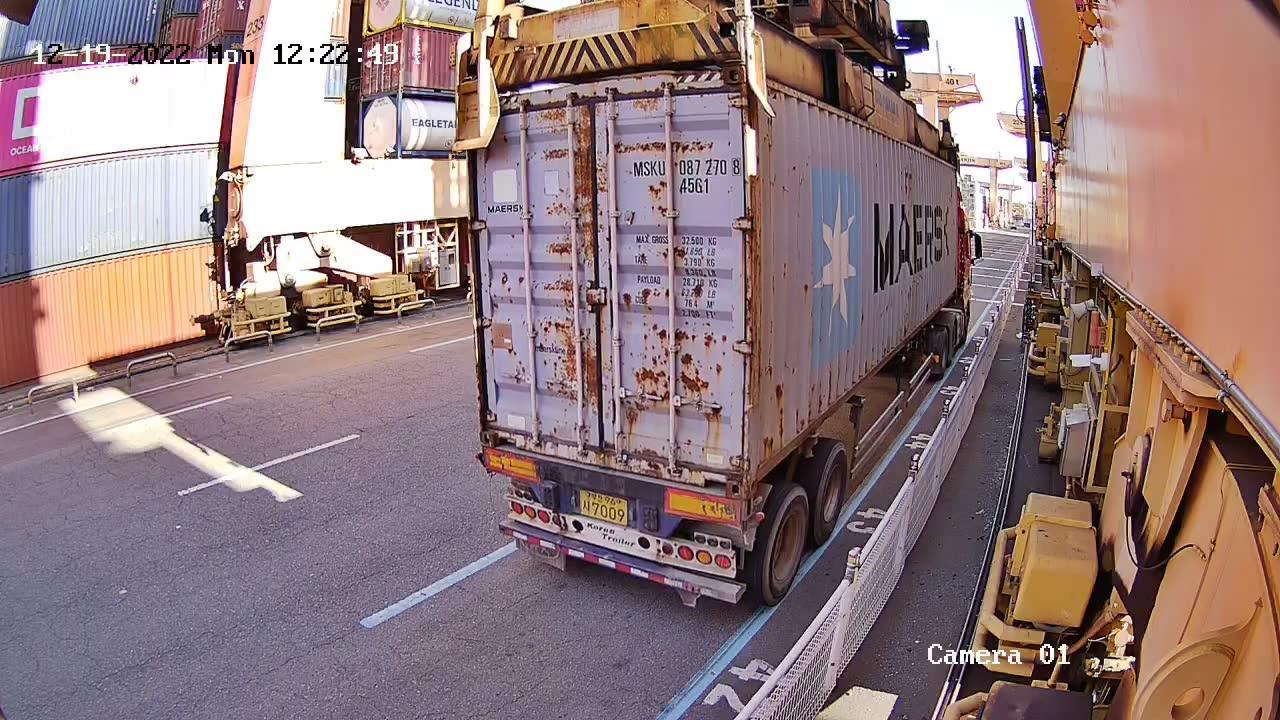Chassis: (485, 447, 743, 534)
Cone: (740, 495, 757, 521)
Hole_L: (481, 416, 514, 451)
Hole_R: (697, 449, 745, 498)
Tire: (760, 487, 810, 599), (813, 443, 849, 531)
